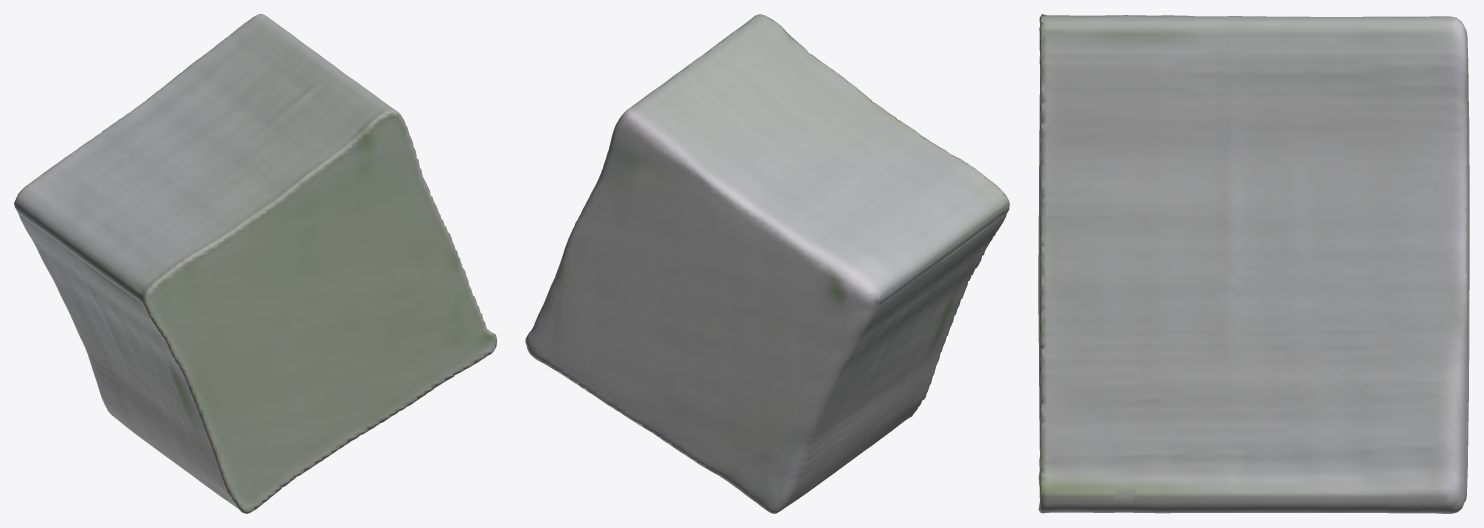
Rendered from cream.glb.
The picture shows the model from 3 angles, left to right: view 1: azimuth 30°, elevation 25°; view 2: azimuth 150°, elevation 25°; view 3: azimuth 270°, elevation 25°; orthographic projection. The views are drawn at different scales.
Size of the model in its own units: 0.9996 by 0.9957 by 0.6756.
